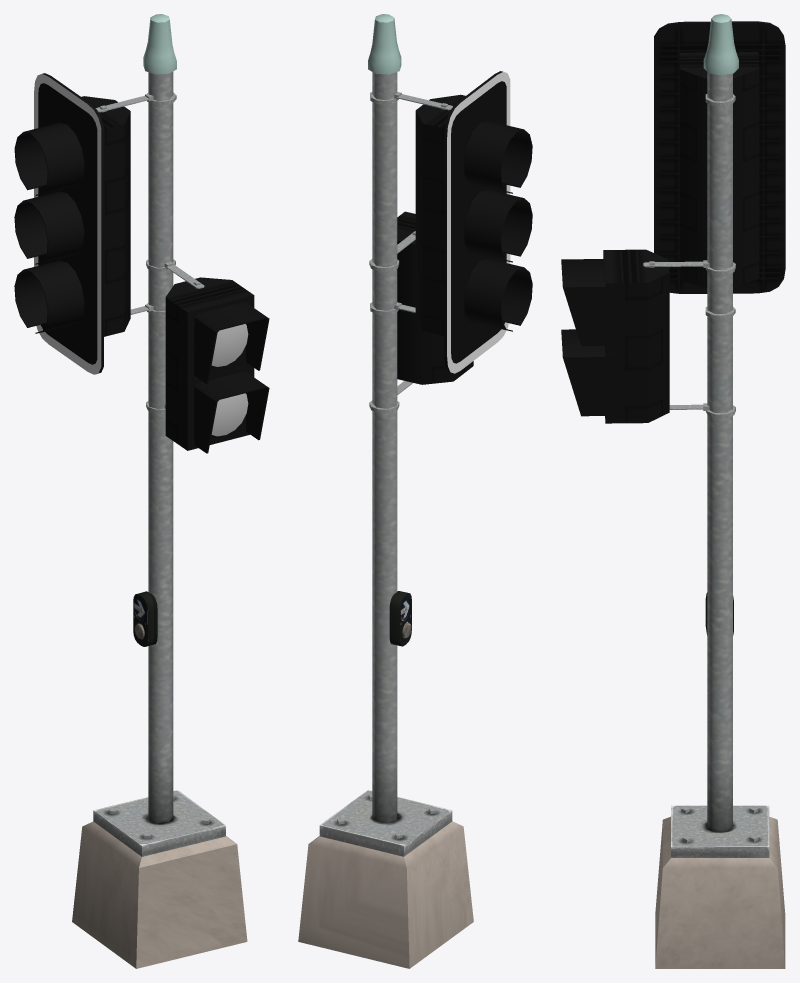
File: TrafficLight02.fbx
The picture shows the model from 3 angles, left to right: view 1: azimuth 30°, elevation 25°; view 2: azimuth 150°, elevation 25°; view 3: azimuth 270°, elevation 25°; orthographic projection.
Parts seen in each view (by area): view 1: TrafficLight02; view 2: TrafficLight02; view 3: TrafficLight02.
Boxes of the visible parts, x1,y1,x2,y2 form: TrafficLight02: (14,14,269,968); TrafficLight02: (298,14,532,968); TrafficLight02: (561,14,785,968).
Size of the model in its own units: 1.04 by 1.08 by 4.89.
